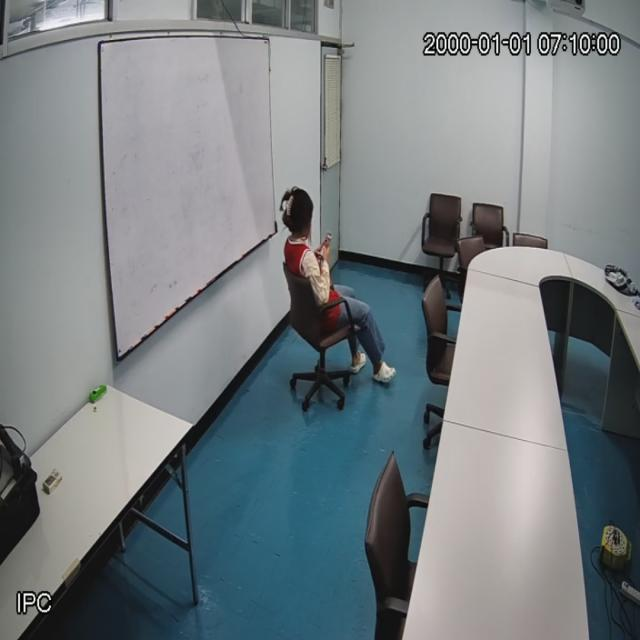normal: (284, 187, 386, 381)
